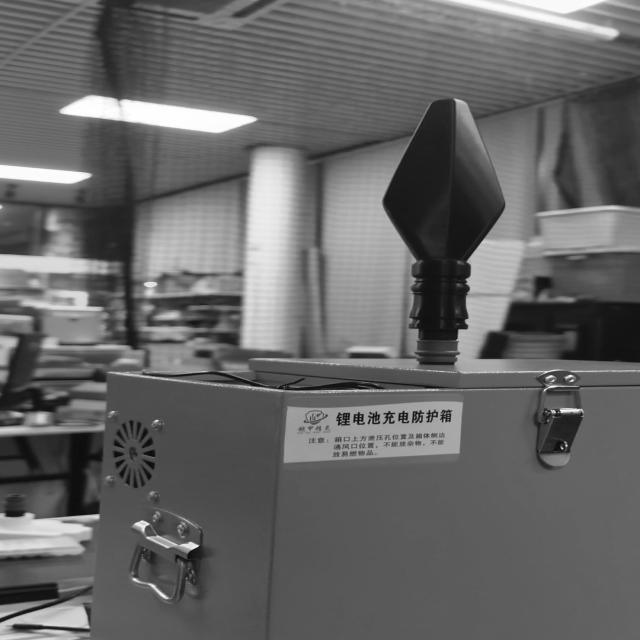base: (412, 338, 460, 366)
